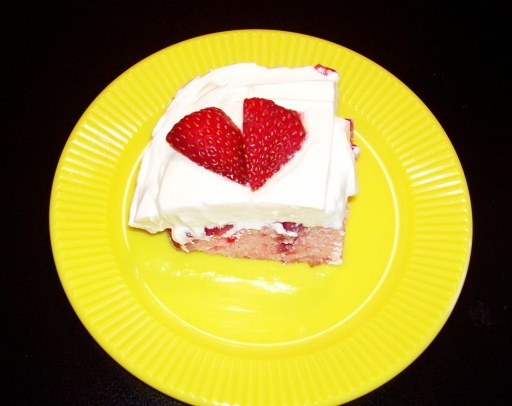background: (102, 39, 288, 169)
